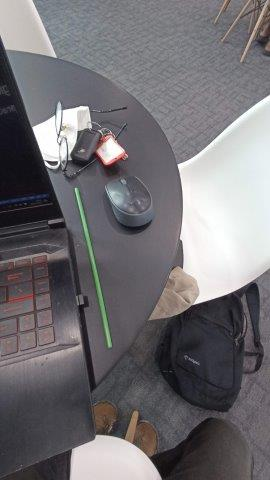sedotan: (75, 189, 112, 348)
